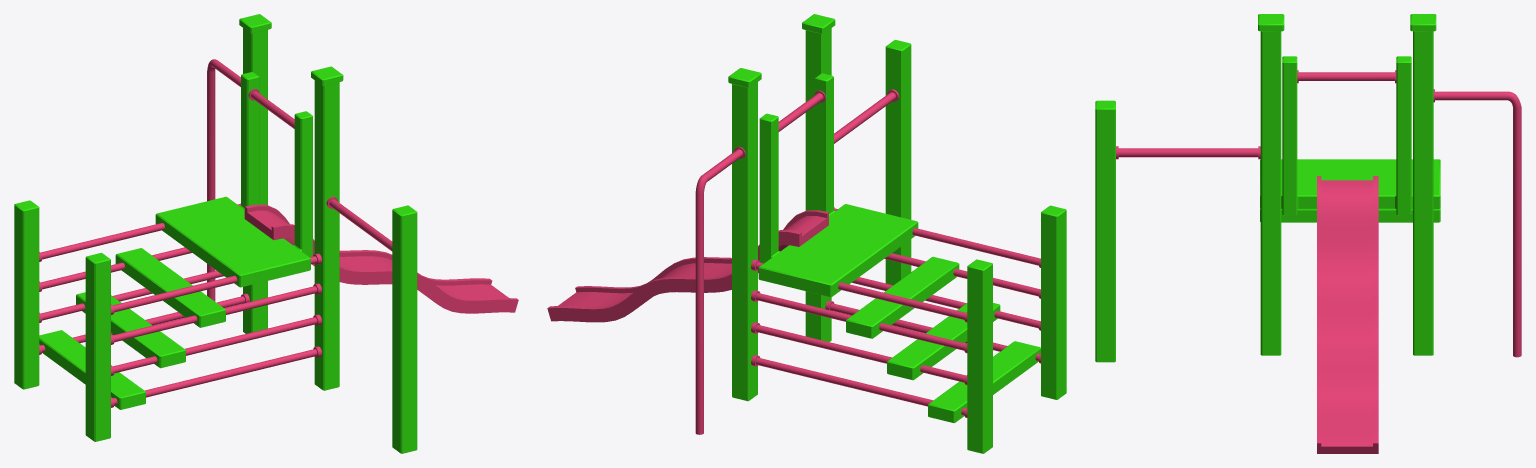
Rendered from Slide.fbx.
3 renders of one model, left to right at view 1: azimuth 30°, elevation 25°; view 2: azimuth 150°, elevation 25°; view 3: azimuth 270°, elevation 25°, orthographic. The views are drawn at different scales.
Visible parts, largest first — view 1: Cylinder.011; view 2: Cylinder.011; view 3: Cylinder.011.
Part boxes in pixels (left/top/right/bottom): Cylinder.011: left=14, top=14, right=518, bottom=453; Cylinder.011: left=547, top=14, right=1066, bottom=453; Cylinder.011: left=1095, top=14, right=1521, bottom=453.
Bounding box in the file's own units: 3386 × 2295 × 2609.
